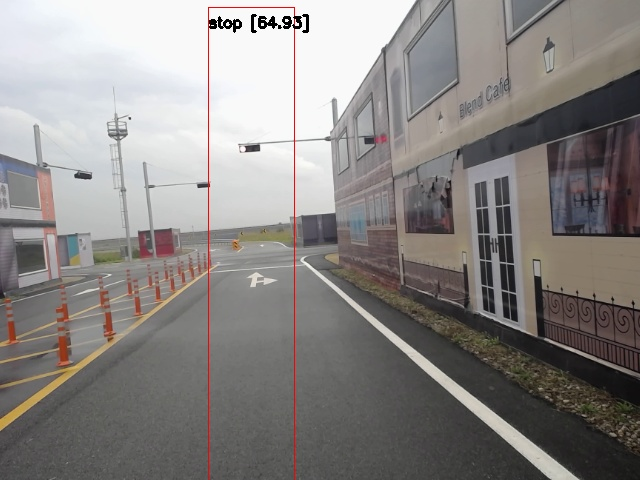red_3: (240, 144, 261, 153)
